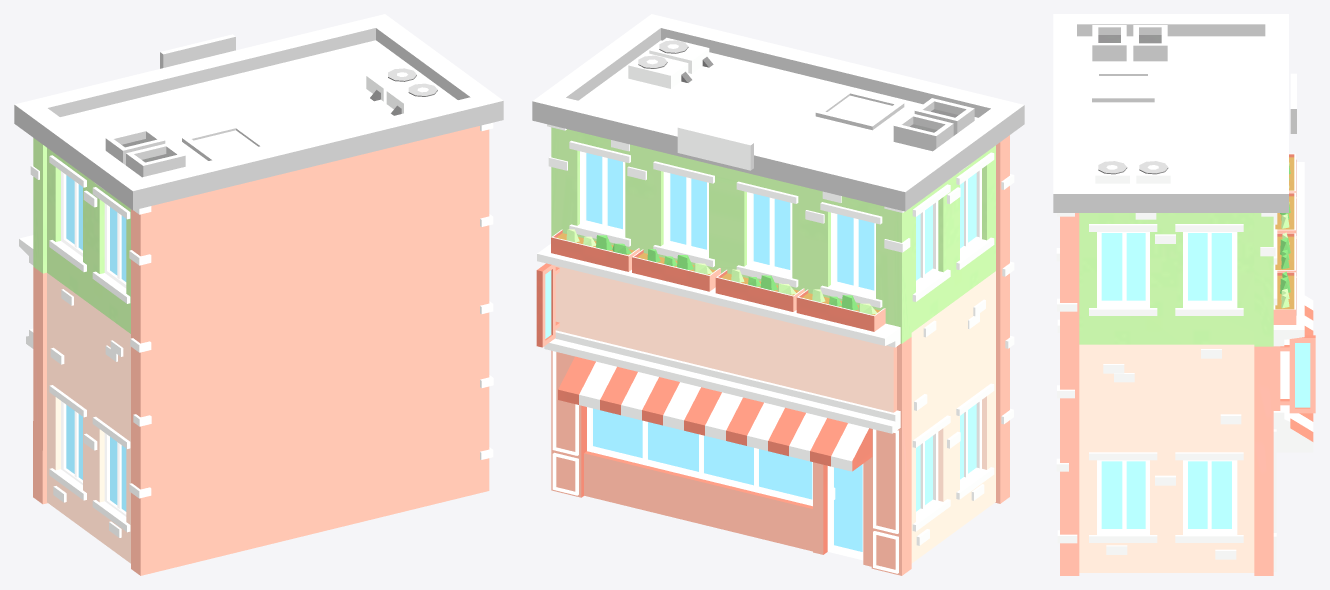
The model's file is dwelling&store.009.glb.
3 renders of one model, left to right at view 1: azimuth 30°, elevation 25°; view 2: azimuth 150°, elevation 25°; view 3: azimuth 270°, elevation 25°, orthographic.
Parts seen in each view (by area): view 1: dwelling&store.009(Clone); view 2: dwelling&store.009(Clone); view 3: dwelling&store.009(Clone).
Boxes of the visible parts, x1=… form: dwelling&store.009(Clone): x1=14, y1=14, x2=503, y2=575; dwelling&store.009(Clone): x1=532, y1=14, x2=1024, y2=575; dwelling&store.009(Clone): x1=1053, y1=14, x2=1315, y2=575.
Size of the model in its own units: 7.05 by 7.32 by 4.34.
1 material, 1 textured.
